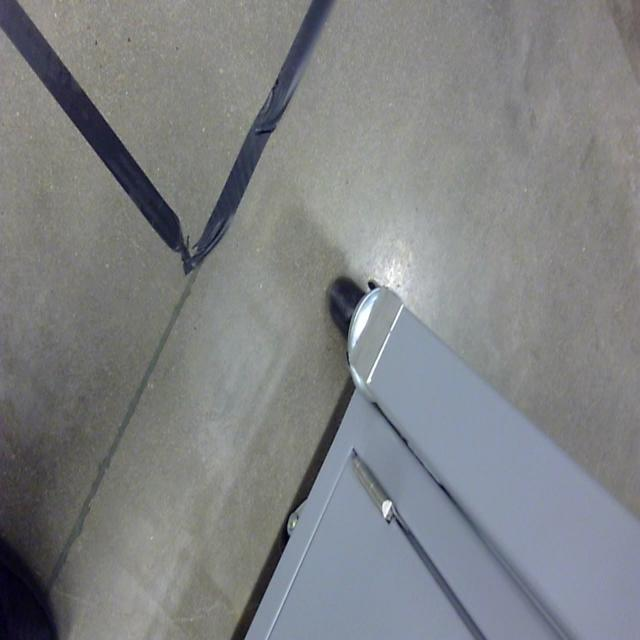tape: (0, 0, 340, 276)
